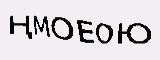Б: (84, 15, 98, 40)
П: (49, 15, 66, 38), (35, 17, 52, 39), (67, 15, 83, 37)
Ф: (99, 18, 120, 39)
